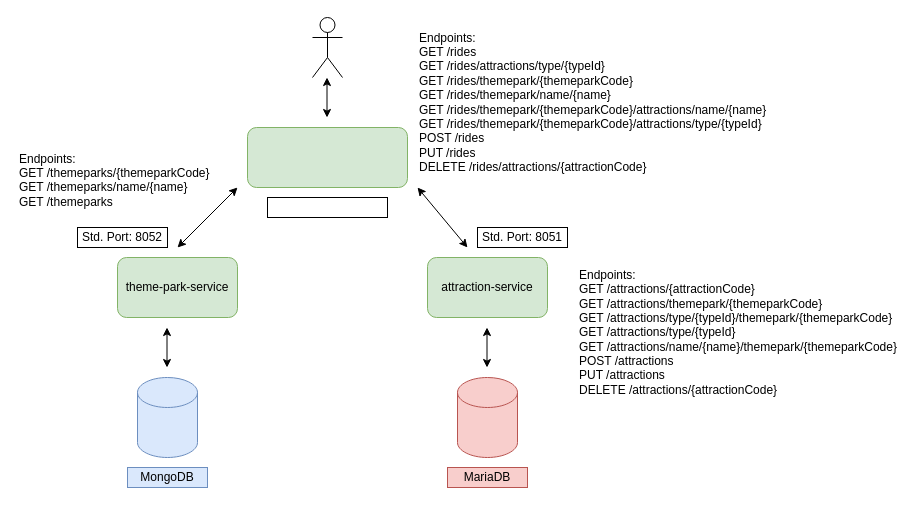
The diagram is 924 pixels wide and 505 high, and some of its shapes have lost their labels. Each missing label, with the centre of its shape:
parkrides-edge-service: point (327, 157)
Std. Port: 8050: point (327, 207)
